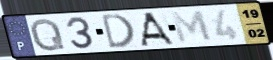3: (65, 15, 95, 51)
4: (213, 7, 241, 42)
A: (139, 11, 177, 47)
D: (100, 12, 137, 50)
M: (169, 9, 215, 45)
Q: (29, 17, 68, 53)
